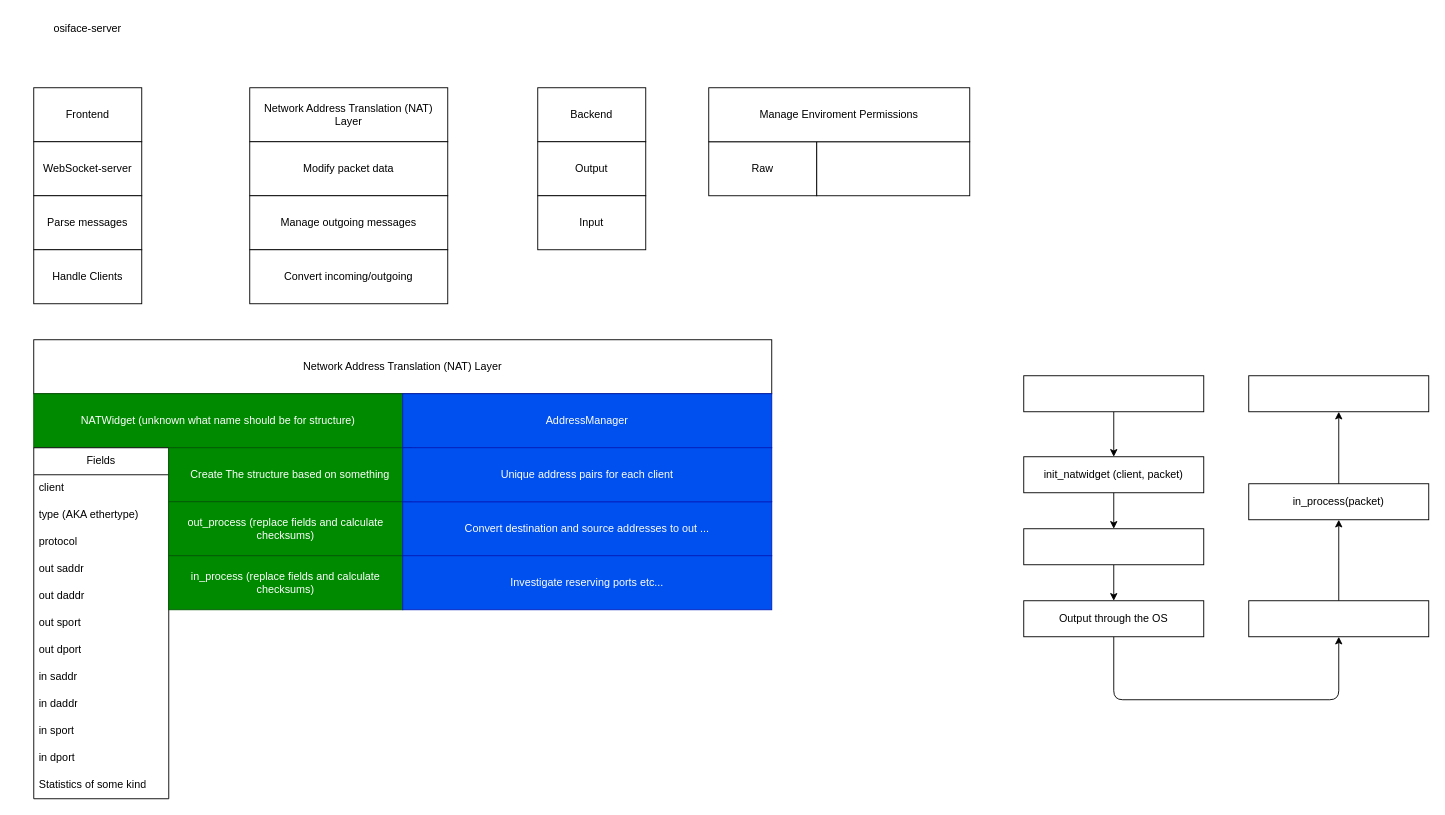
The diagram is 1445 pixels wide and 815 high, and some of its shapes have lost their labels. The shapes that lost their labels are listed below. From the top down, each one's centre as x and y in pixels, then its label:
the point at 893,168: Protocol (UDP, TCP, ...)
the point at 1113,393: receive from client
the point at 1338,393: Send to client
the point at 1113,546: out_process (NATWidget, packet)
the point at 1338,618: Input through OS
